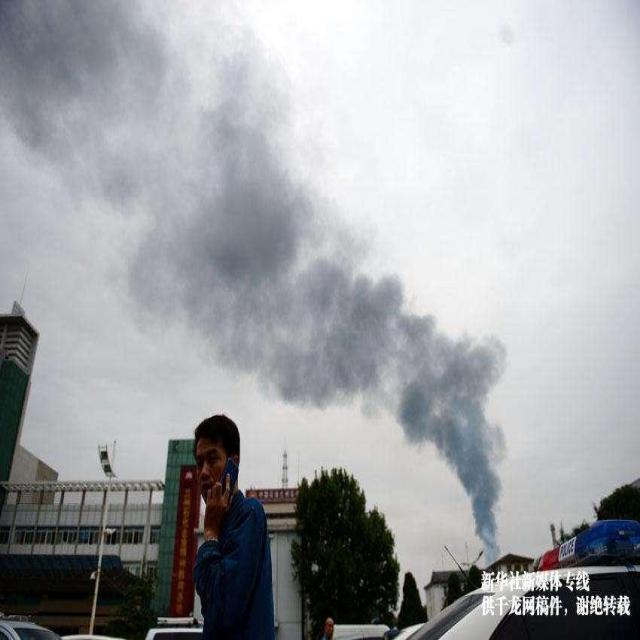Smoke: (0, 0, 512, 570)
